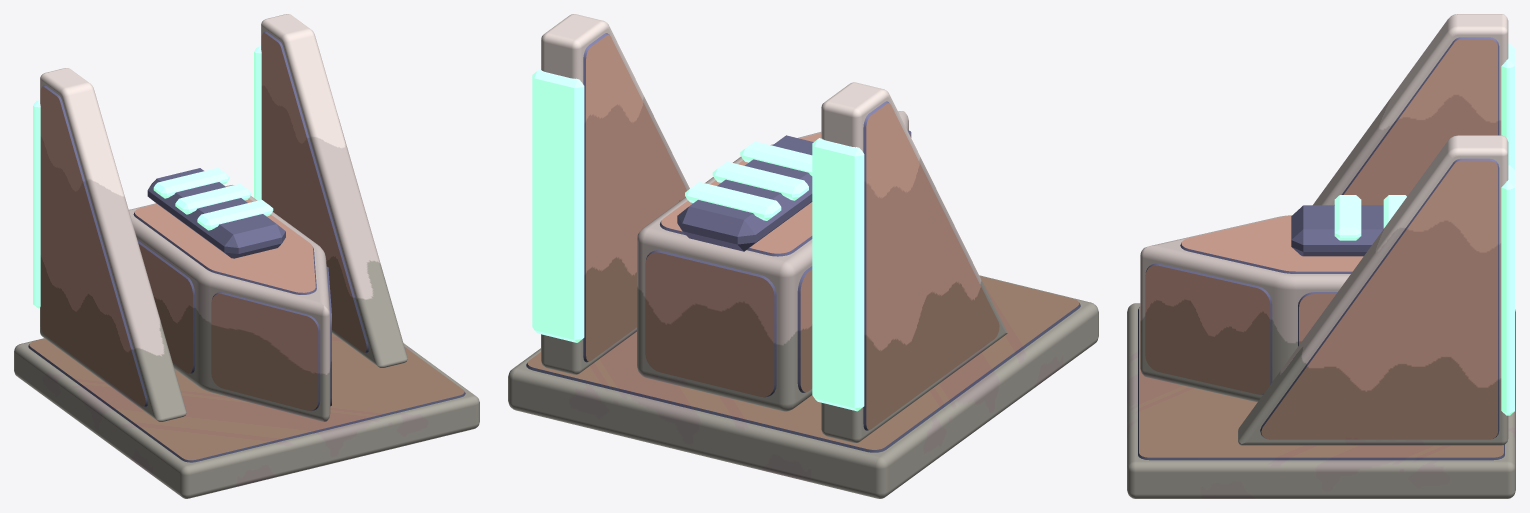
File: R4X_MobilityBooster.glb
3 renders of one model, left to right at view 1: azimuth 30°, elevation 25°; view 2: azimuth 150°, elevation 25°; view 3: azimuth 270°, elevation 25°, orthographic. The views are drawn at different scales.
Visible parts, largest first — view 1: R4X_MobilityBooster_Body; view 2: R4X_MobilityBooster_Body; view 3: R4X_MobilityBooster_Body.
Part boxes in pixels (x1=…): R4X_MobilityBooster_Body: x1=14, y1=14, x2=479, y2=498; R4X_MobilityBooster_Body: x1=508, y1=14, x2=1098, y2=498; R4X_MobilityBooster_Body: x1=1127, y1=14, x2=1515, y2=498.
Size of the model in its own units: 0.514 by 0.497 by 0.514.
Materials: 4 (3 with a texture image).
